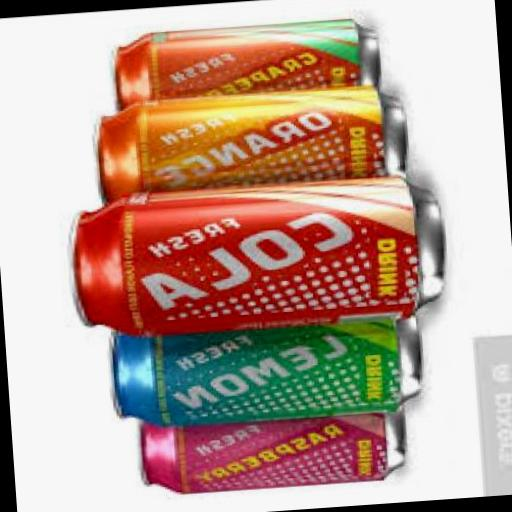metal: (68, 168, 448, 338), (90, 80, 410, 218), (103, 307, 424, 426), (132, 400, 408, 494), (106, 14, 376, 104)
